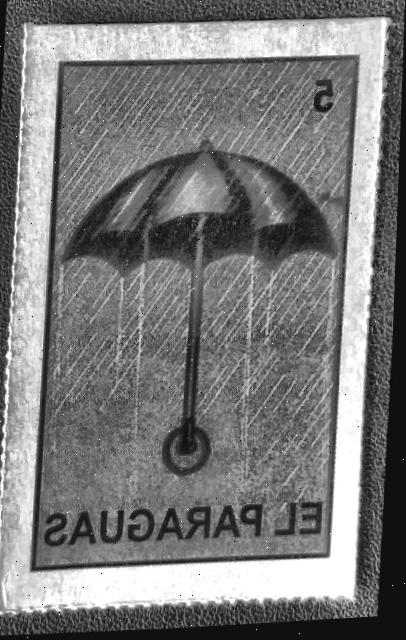El Paraguas: (23, 42, 368, 593)
